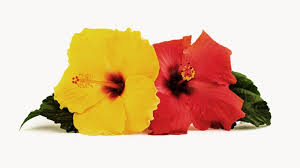hybiscus: (54, 27, 157, 136)
